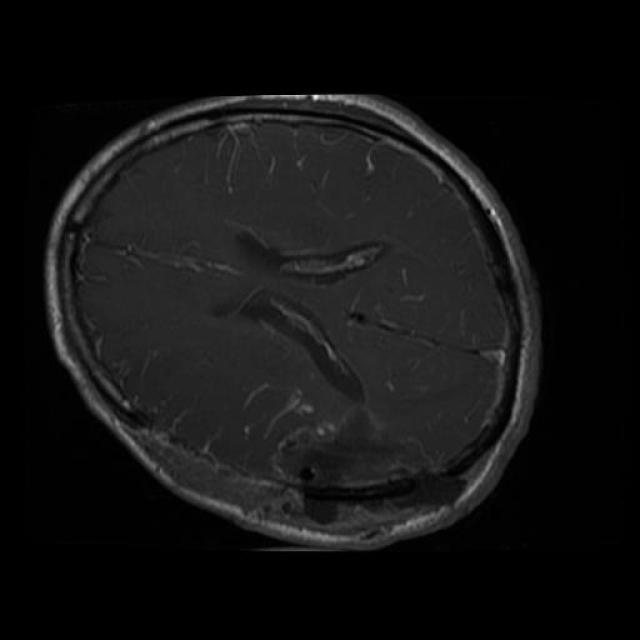Glioma: (270, 405, 422, 493)
